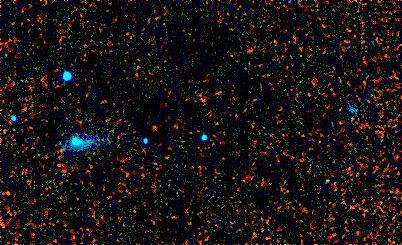star: (138, 111, 168, 141)
